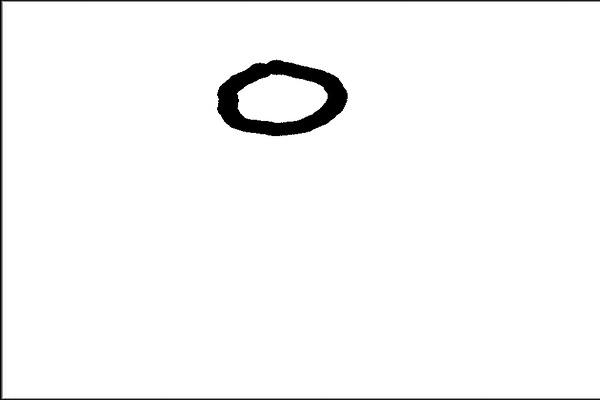O: (201, 45, 353, 142)
